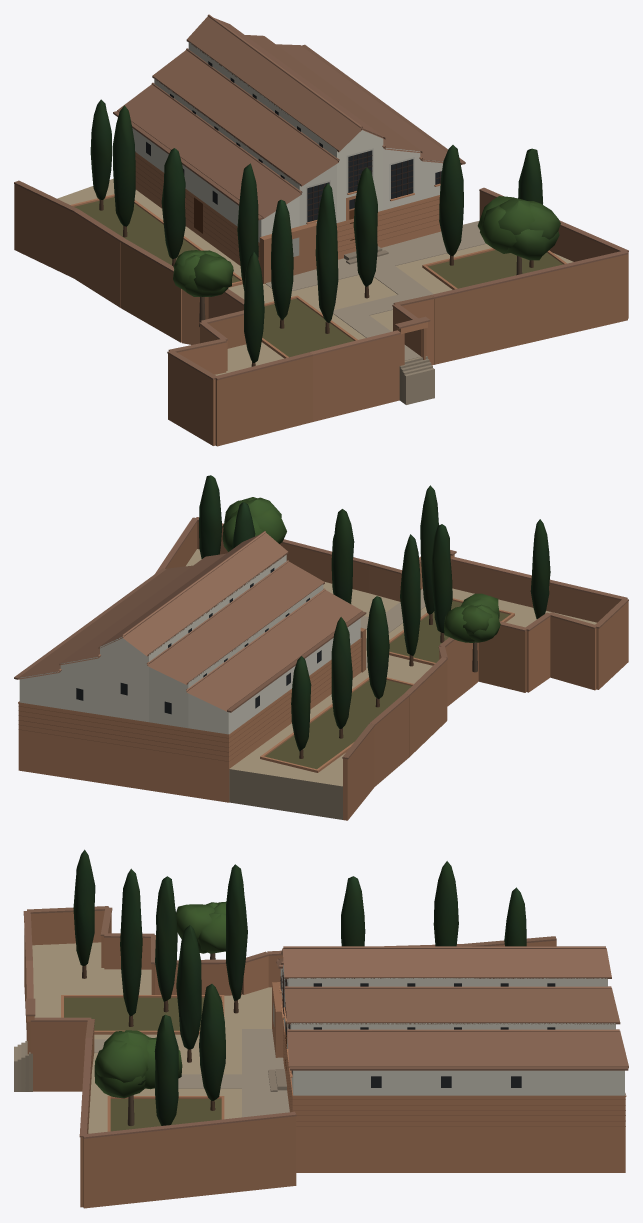
The picture shows the model from 3 angles, top to bottom: view 1: azimuth 30°, elevation 25°; view 2: azimuth 150°, elevation 25°; view 3: azimuth 270°, elevation 25°; orthographic projection. The views are drawn at different scales.
Visible parts, largest first — view 1: santa_maria_la_blanca; view 2: santa_maria_la_blanca; view 3: santa_maria_la_blanca.
Part boxes in pixels (x1,y1,x2,y2): santa_maria_la_blanca: (14,14,628,446); santa_maria_la_blanca: (14,475,628,820); santa_maria_la_blanca: (14,849,628,1208).
Bounding box in the file's own units: 46.89 × 18.62 × 52.68.
